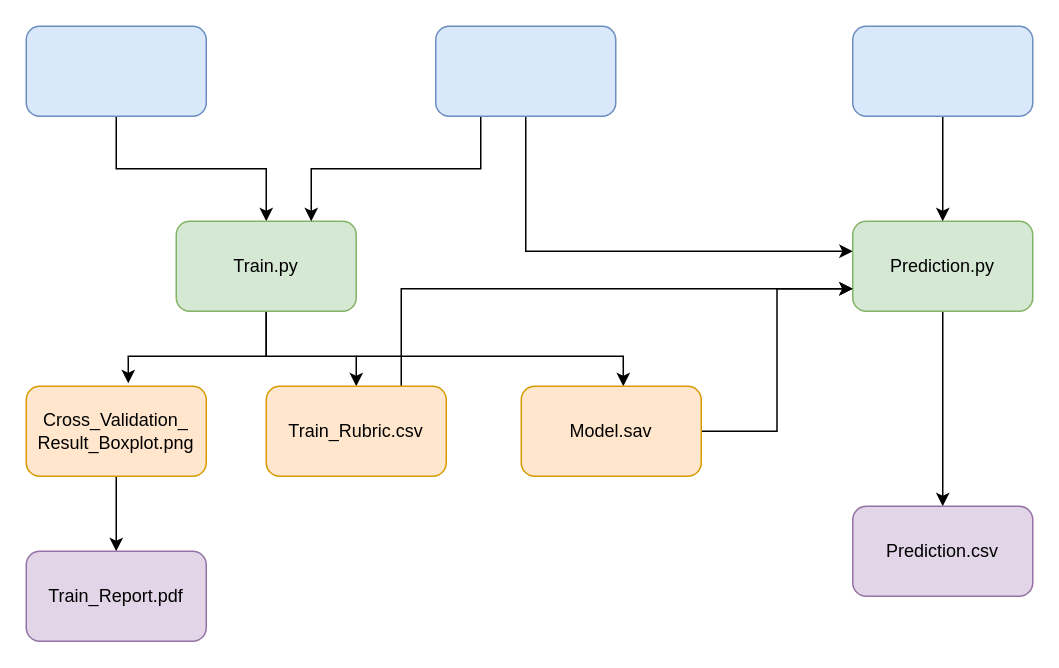
The diagram is 1059 pixels wide and 668 high, and some of its shapes have lost their labels. The box of each missing label's shape, as (x1, y1, x2, y2) in pixels:
Functions: (434, 25, 616, 116)
Test_data: (851, 25, 1033, 116)
Train_data: (25, 25, 206, 116)
